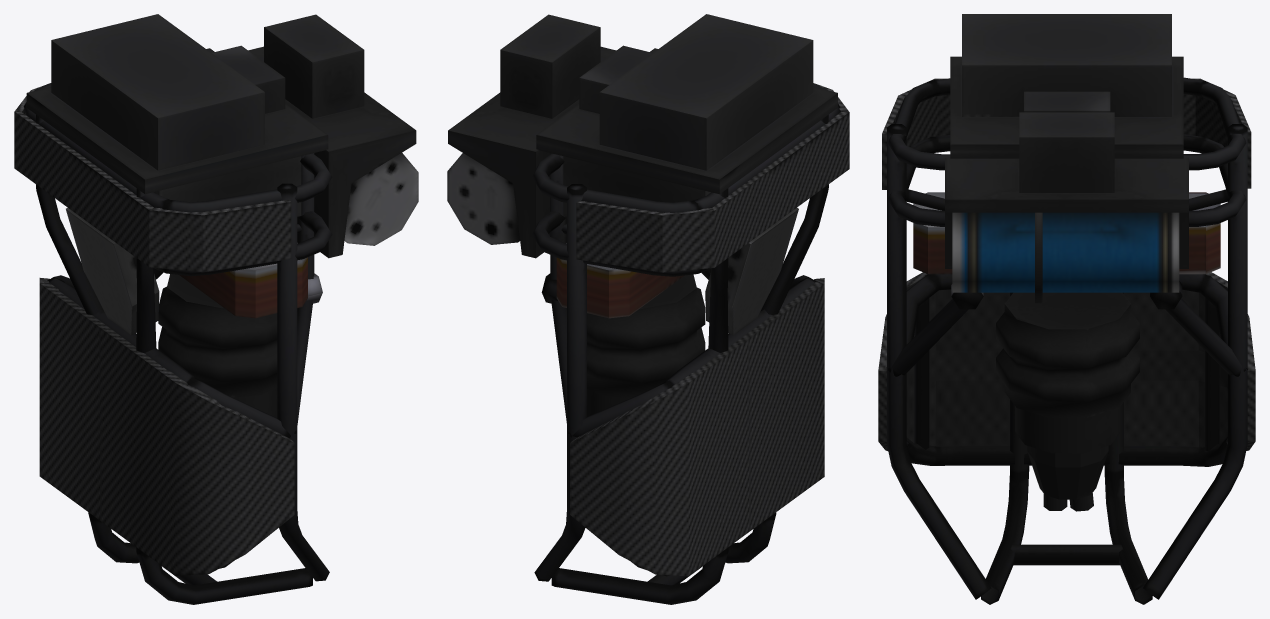
File: utorso_pack.DAE
3 views of the same model, side by side, from view 1: azimuth 30°, elevation 25°; view 2: azimuth 150°, elevation 25°; view 3: azimuth 270°, elevation 25° (orthographic).
Parts seen in each view (by area): view 1: drc_utorso_pack; view 2: drc_utorso_pack; view 3: drc_utorso_pack.
Part boxes in pixels (x1,y1,x2,y2): drc_utorso_pack: (14,14,418,604); drc_utorso_pack: (447,14,849,604); drc_utorso_pack: (878,14,1255,604).
Size of the model in its own units: 0.3412 by 0.3948 by 0.5903.
Materials: 1 (1 with a texture image).
